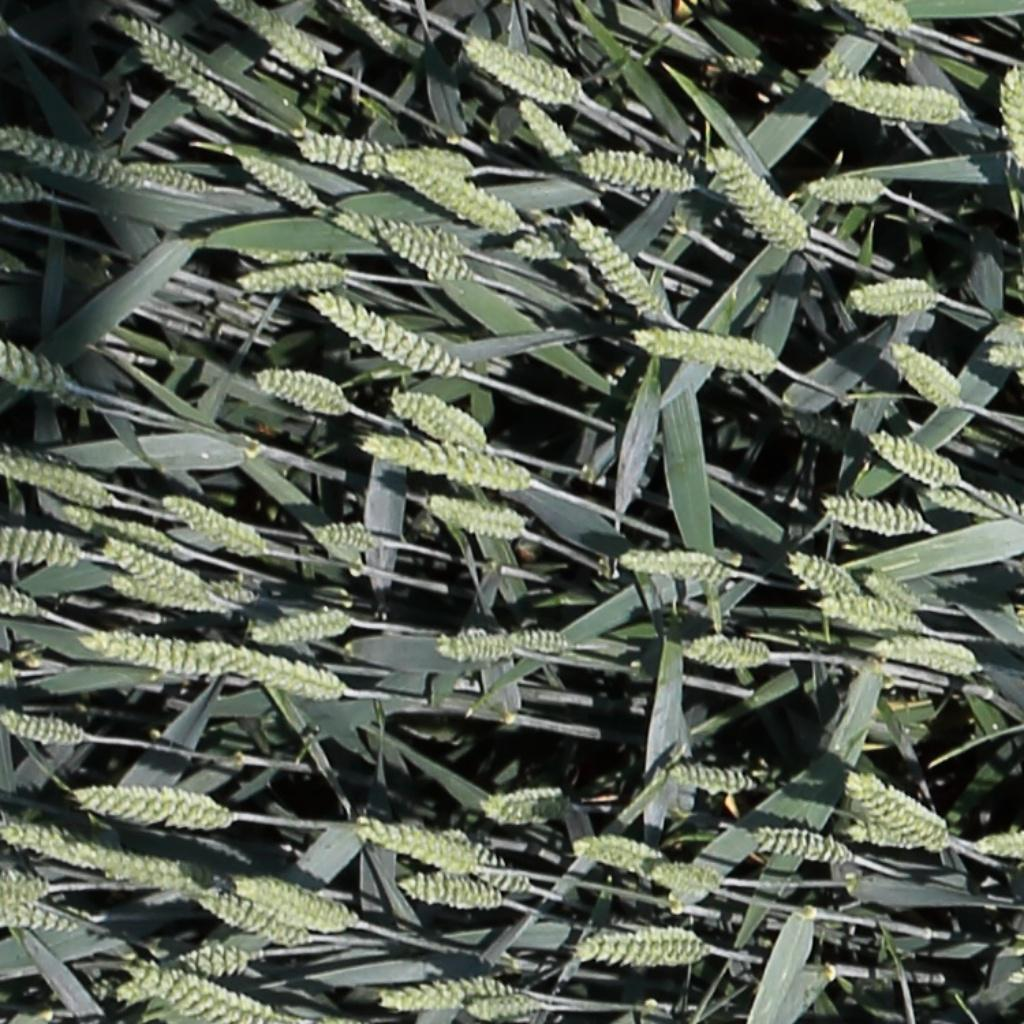0-0: (84, 633, 357, 708), (0, 820, 188, 889), (309, 290, 458, 376), (704, 141, 805, 249), (566, 211, 666, 319), (121, 962, 285, 1024), (386, 151, 514, 230), (109, 941, 269, 1003), (68, 780, 235, 832), (360, 436, 529, 487), (6, 125, 136, 188), (464, 36, 582, 105), (845, 773, 944, 851), (232, 873, 354, 935), (352, 815, 478, 874), (632, 326, 777, 376), (221, 1, 322, 72), (826, 80, 963, 128), (141, 49, 236, 114), (158, 495, 262, 554), (361, 219, 466, 277), (436, 831, 531, 895), (193, 891, 298, 948), (577, 148, 693, 199), (106, 574, 257, 613), (0, 339, 84, 408), (107, 12, 206, 70), (1, 454, 110, 506), (57, 505, 177, 552), (344, 211, 460, 259), (98, 539, 197, 595), (425, 494, 530, 546), (887, 342, 965, 410), (577, 926, 705, 967), (387, 390, 484, 443), (868, 431, 961, 486), (376, 978, 520, 1013), (253, 370, 350, 420), (395, 872, 505, 915), (512, 90, 576, 161), (876, 636, 980, 679), (337, 0, 410, 61), (0, 524, 88, 573), (383, 142, 481, 185), (847, 273, 938, 317), (820, 498, 925, 536), (234, 157, 318, 204), (295, 134, 386, 177), (570, 836, 670, 874), (817, 596, 922, 632), (480, 786, 569, 826), (750, 827, 851, 862), (125, 159, 208, 201), (786, 552, 860, 598), (924, 486, 1024, 520), (238, 262, 346, 292), (664, 764, 772, 793), (1, 712, 86, 744), (248, 614, 346, 641), (619, 555, 724, 580), (643, 857, 725, 889), (862, 570, 922, 613), (1, 905, 83, 935), (1001, 65, 1024, 165), (434, 632, 514, 659), (805, 178, 887, 204), (847, 826, 931, 851), (316, 520, 379, 550), (847, 0, 909, 30), (682, 644, 767, 664), (509, 627, 566, 652), (472, 997, 537, 1018), (981, 830, 1024, 859), (1, 589, 43, 618), (987, 345, 1024, 375), (507, 240, 563, 258), (1, 180, 46, 197)
